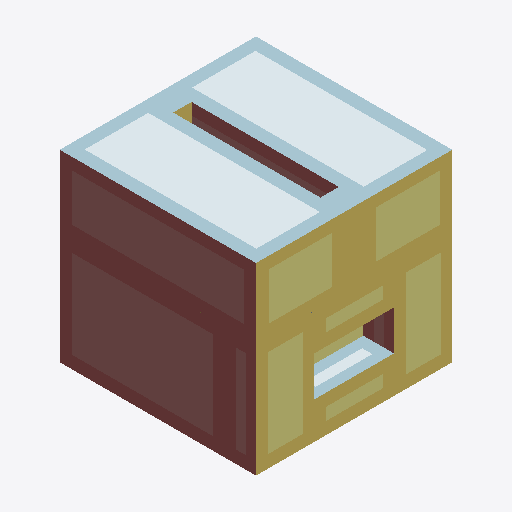
A Minecraft block model of 9 cuboids, rendered isometrically (azimuth 45°, elevation 35.3°) with the resource pack's own textures.
Visible parts, largest first — element 2, element 3, element 1, element 7, element 6, element 8, element 9, element 5, element 4.
Boxes of the visible parts, box(x1,y1,x2,y2) form: element 2: box(60, 98, 344, 343); element 3: box(168, 37, 451, 281); element 1: box(60, 232, 362, 456); element 7: box(225, 311, 313, 474); element 6: box(363, 232, 451, 395); element 8: box(314, 336, 393, 441); element 9: box(314, 265, 393, 352); element 5: box(321, 187, 362, 292); element 4: box(149, 88, 191, 122).
Bounding box in the file's own units: 16 × 15 × 16.